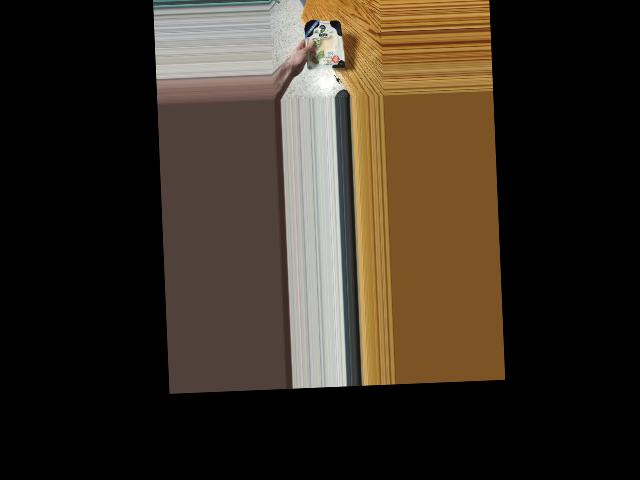cheese: (302, 7, 344, 80)
